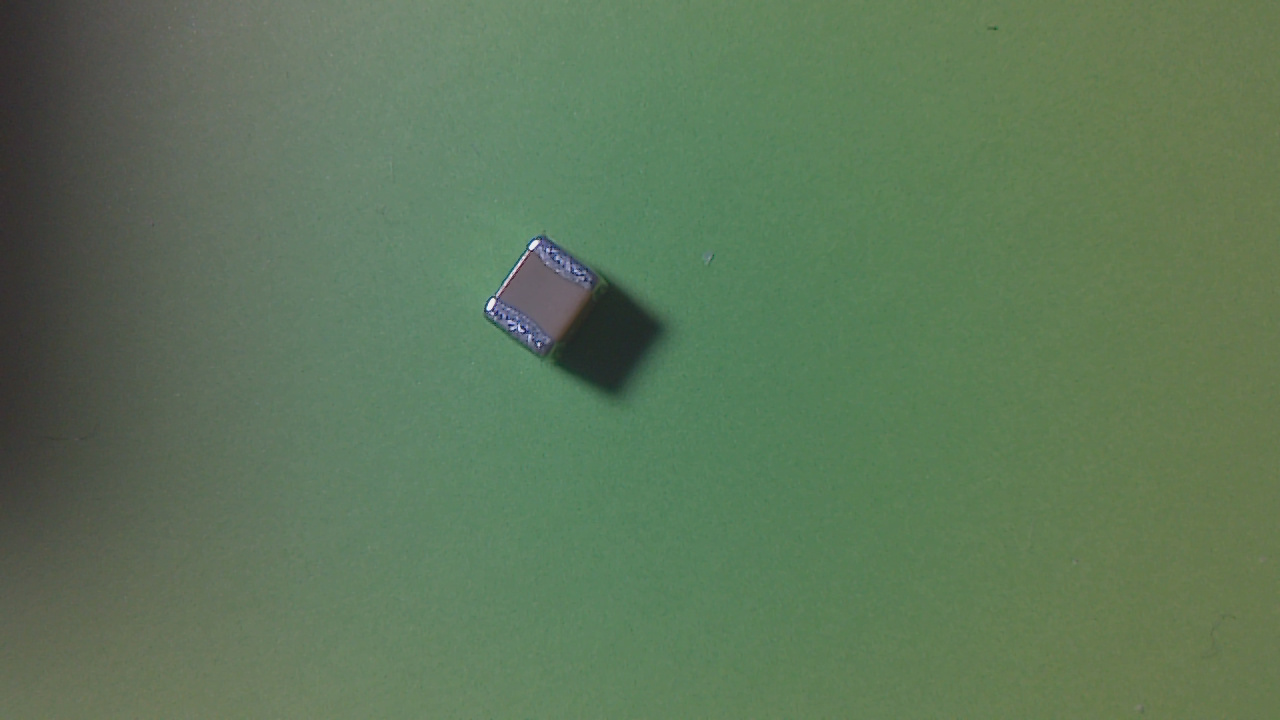Condensator: (484, 234, 607, 372)
